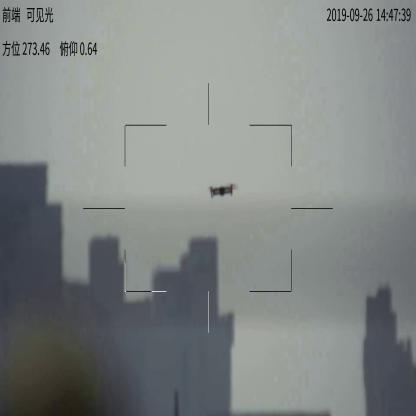uav: (203, 180, 237, 200)
